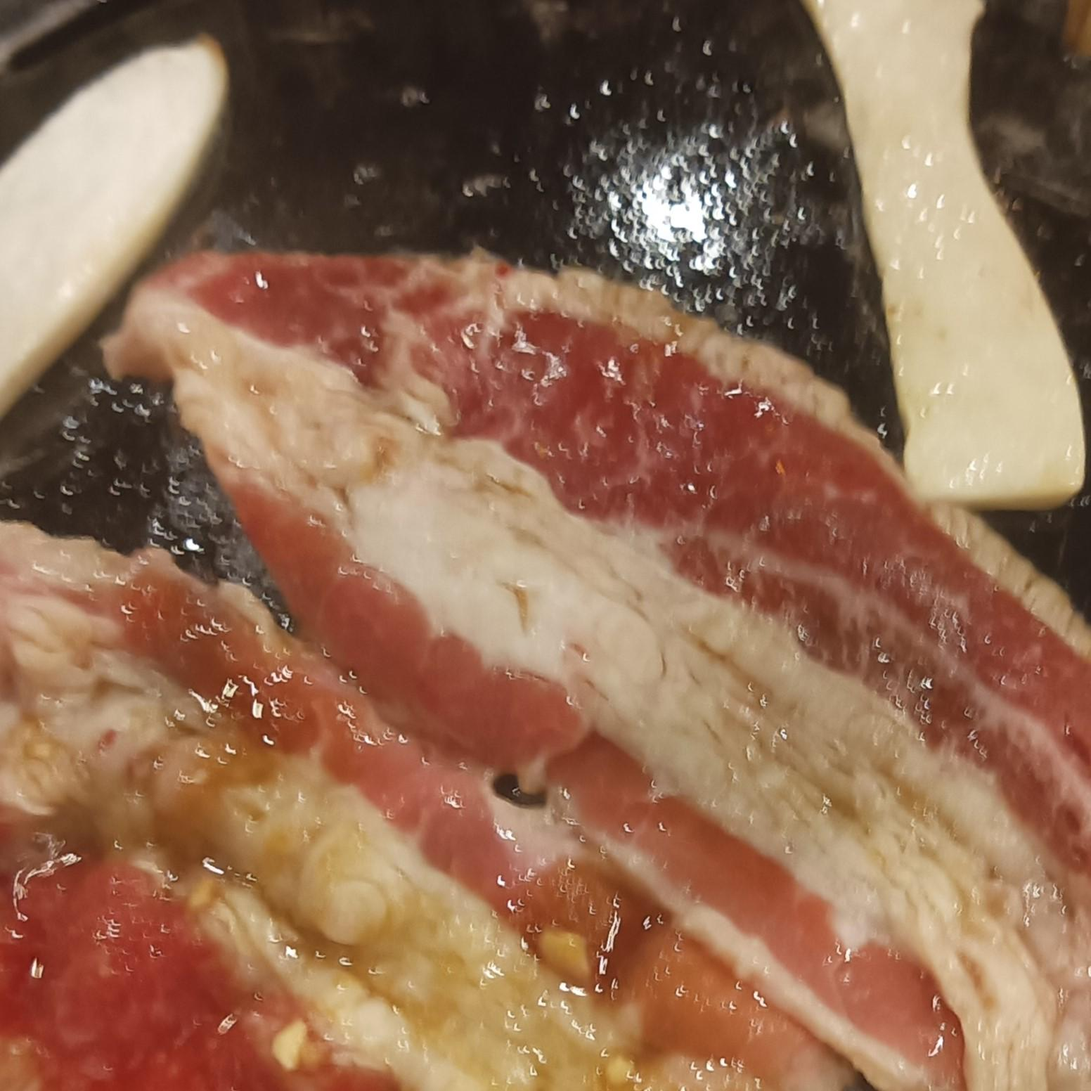Undercooked: (103, 252, 1090, 1090), (0, 528, 642, 1065), (0, 812, 684, 1090)
